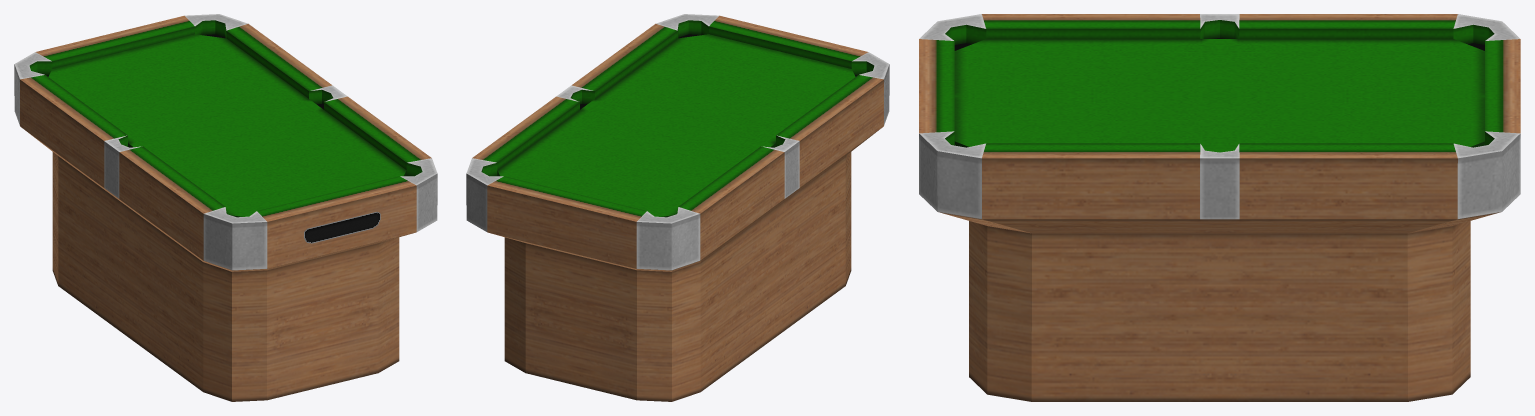
The model's file is pool_table.obj.
3 views of the same model, side by side, from view 1: azimuth 30°, elevation 25°; view 2: azimuth 150°, elevation 25°; view 3: azimuth 270°, elevation 25° (orthographic). The views are drawn at different scales.
Parts seen in each view (by area): view 1: PoolTable; view 2: PoolTable; view 3: PoolTable.
Boxes of the visible parts, box(x1,y1,x2,y2) form: PoolTable: box(14, 14, 437, 401); PoolTable: box(466, 14, 889, 401); PoolTable: box(919, 14, 1520, 401).
Bounding box in the file's own units: 1.21 × 0.9983 × 2.13.
Materials: 1 (1 with a texture image).
